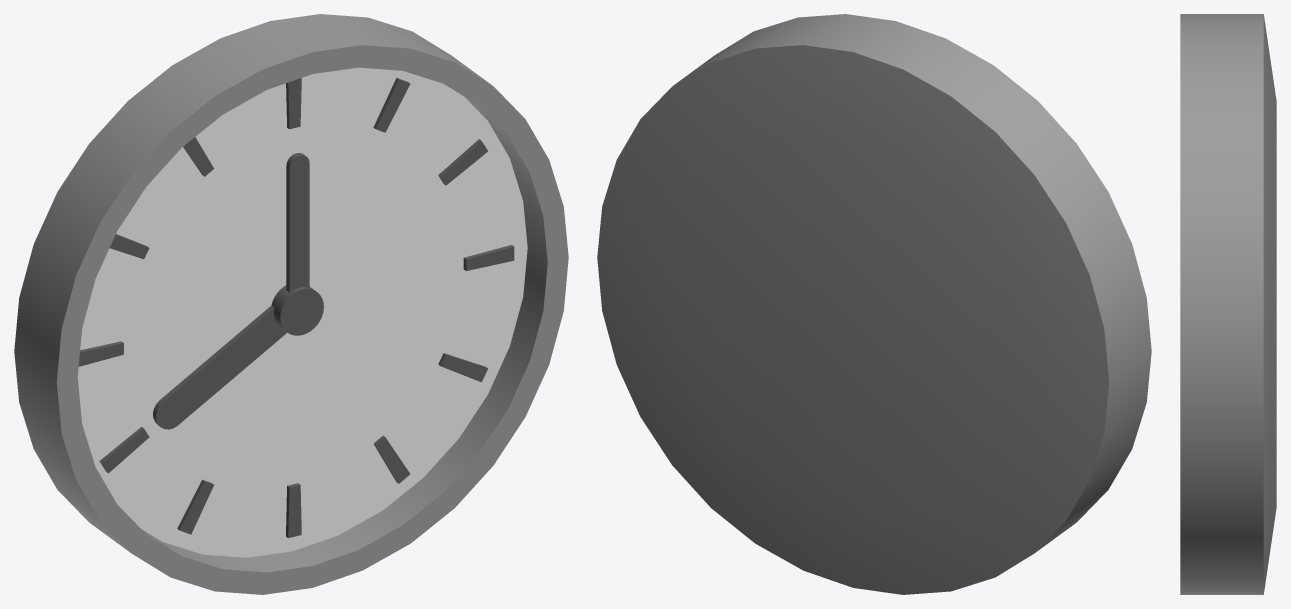
The model's file is eight_oclock.glb.
The picture shows the model from 3 angles, left to right: view 1: azimuth 30°, elevation 25°; view 2: azimuth 150°, elevation 25°; view 3: azimuth 270°, elevation 25°; orthographic projection.
Visible parts, largest first — view 1: Circle.2477, Circle.2478, Plane.282, Plane.283; view 2: Circle.2477; view 3: Circle.2477.
Boxes of the visible parts, left/top/right/bottom form: Circle.2477: left=14, top=14, right=568, bottom=594; Circle.2478: left=78, top=78, right=514, bottom=537; Plane.282: left=153, top=305, right=287, bottom=429; Plane.283: left=286, top=153, right=309, bottom=292; Circle.2477: left=597, top=14, right=1151, bottom=594; Circle.2477: left=1180, top=14, right=1276, bottom=594.
Bounding box in the file's own units: 2.33 × 2.33 × 0.387.
1 material, 1 textured.
